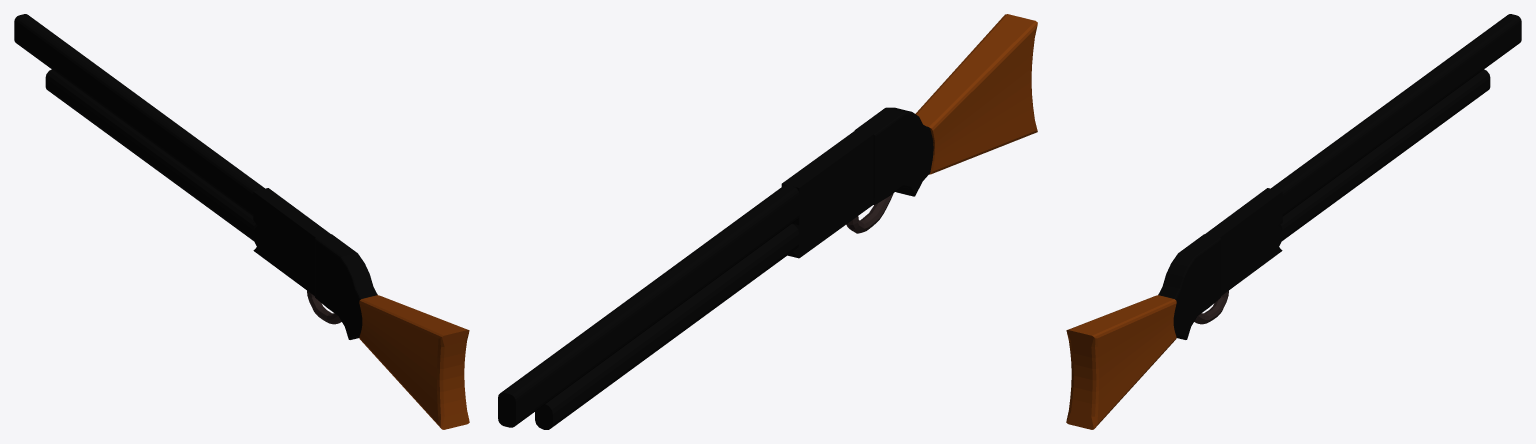
The model's file is ESCOPETA.fbx.
3 renders of one model, left to right at view 1: azimuth 30°, elevation 25°; view 2: azimuth 150°, elevation 25°; view 3: azimuth 330°, elevation 25°, orthographic. The views are drawn at different scales.
Parts seen in each view (by area): view 1: Cubo, Cube, Cilindro; view 2: Cubo, Cube, Cilindro; view 3: Cubo, Cube, Cilindro.
Part boxes in pixels (box(x1,y1,x2,y2)): Cubo: box(14, 14, 377, 339); Cube: box(359, 295, 469, 429); Cilindro: box(307, 290, 341, 324); Cubo: box(498, 107, 933, 429); Cube: box(915, 14, 1037, 174); Cilindro: box(846, 193, 893, 233); Cubo: box(1158, 14, 1521, 339); Cube: box(1066, 295, 1176, 429); Cilindro: box(1194, 290, 1228, 324).
Size of the model in its own units: 0.6465 by 2.01 by 16.7.
Materials: 3 (3 with a texture image).
